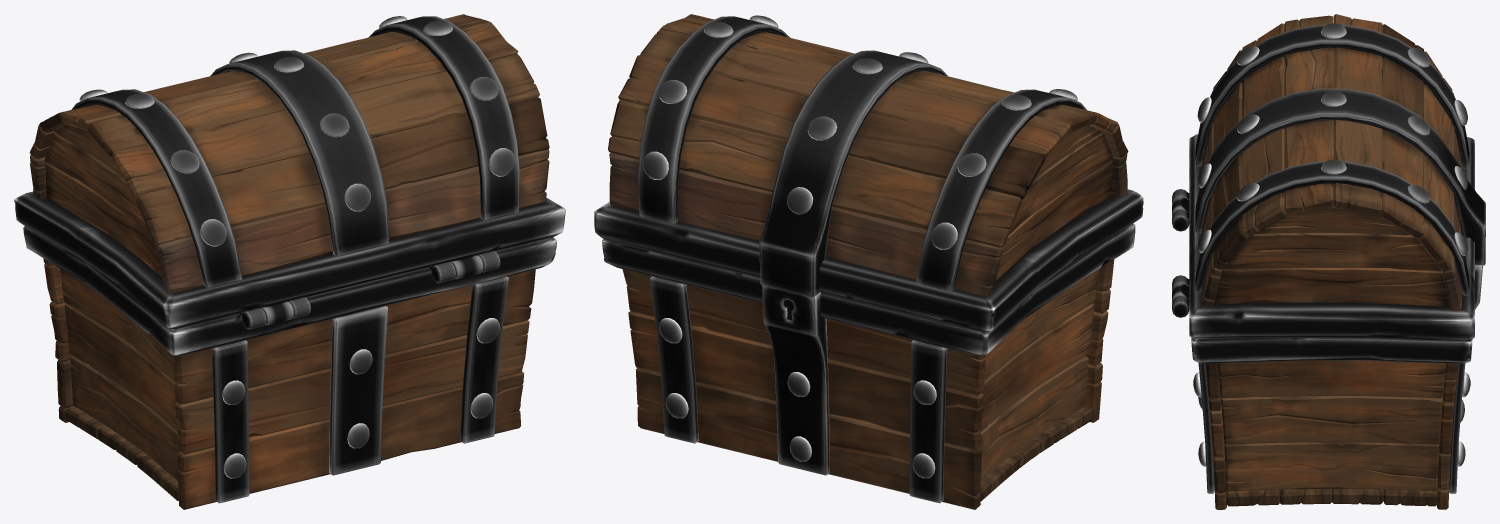
3 renders of one model, left to right at view 1: azimuth 30°, elevation 25°; view 2: azimuth 150°, elevation 25°; view 3: azimuth 270°, elevation 25°, orthographic. The views are drawn at different scales.
Visible parts, largest first — view 1: Cube.009, Cube.039; view 2: Cube.009, Cube.039; view 3: Cube.009, Cube.039.
Part boxes in pixels (box(x1,y1,x2,y2)): Cube.009: box(14, 14, 565, 329); Cube.039: box(23, 226, 557, 509); Cube.009: box(594, 14, 1143, 332); Cube.039: box(602, 223, 1135, 509); Cube.009: box(1172, 14, 1485, 341); Cube.039: box(1172, 184, 1482, 509).
Size of the model in its own units: 4.34 by 3.69 by 3.09.
2 materials, 2 textured.
